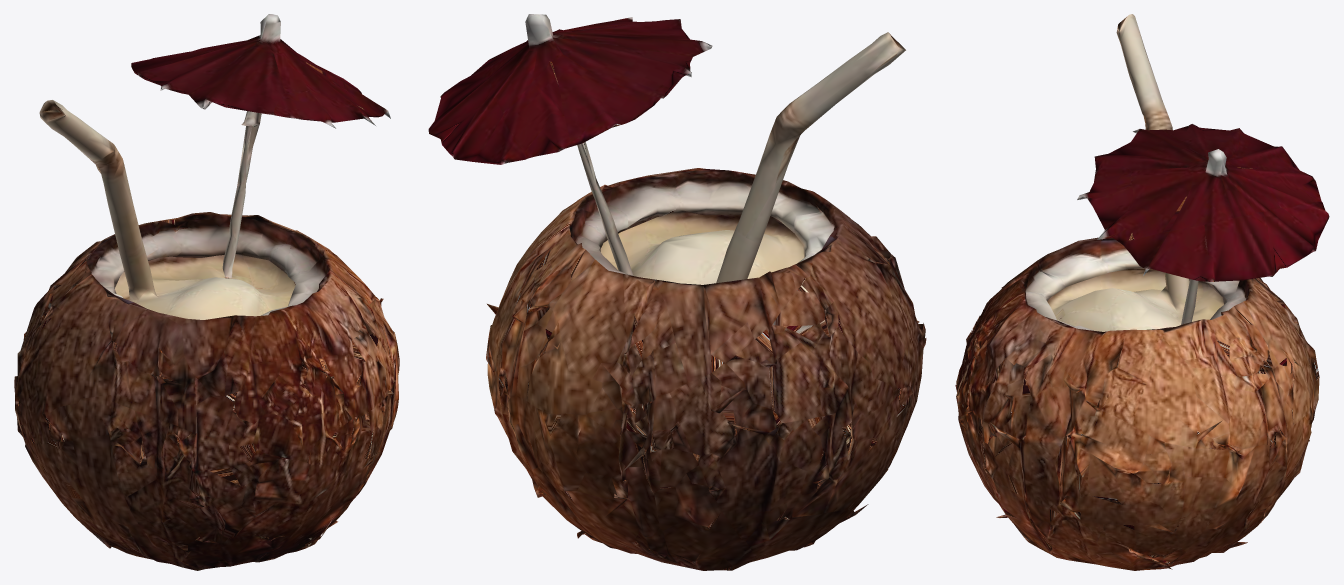
File: coconut_umbrella.glb
3 renders of one model, left to right at view 1: azimuth 30°, elevation 25°; view 2: azimuth 150°, elevation 25°; view 3: azimuth 270°, elevation 25°, orthographic. The views are drawn at different scales.
Parts seen in each view (by area): view 1: prop; view 2: prop; view 3: prop.
Boxes of the visible parts, x1,y1,x2,y2 form: prop: (14, 14, 399, 570); prop: (428, 14, 926, 570); prop: (955, 14, 1329, 570).
Size of the model in its own units: 0.8142 by 1 by 0.7643.
1 material, 1 textured.
